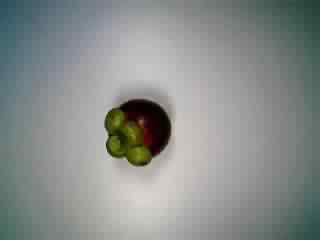mangosteen: (93, 96, 176, 171)
